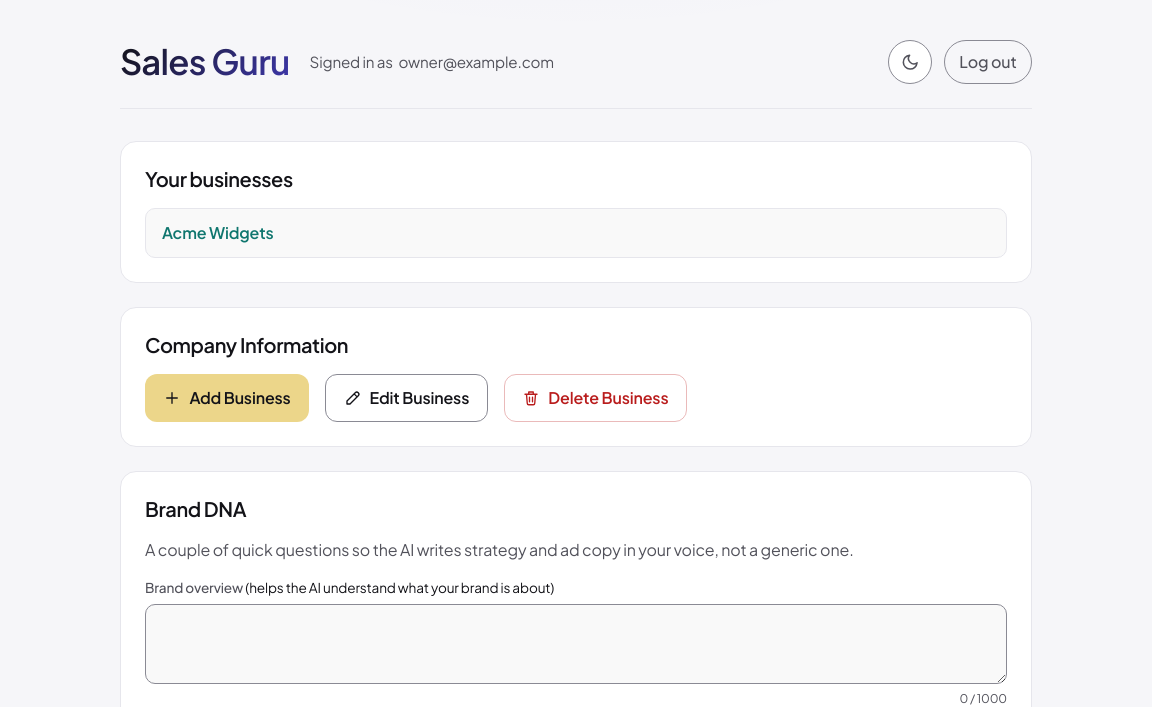
Test case: DashboardPage › the Add Business button › the circular close control › collapses the form without deleting or discarding what was typed
Expected: the link "Acme Widgets" is shown, [162,221,274,245]
Click the button "Add Business": click(227, 398) [145,374,309,422]
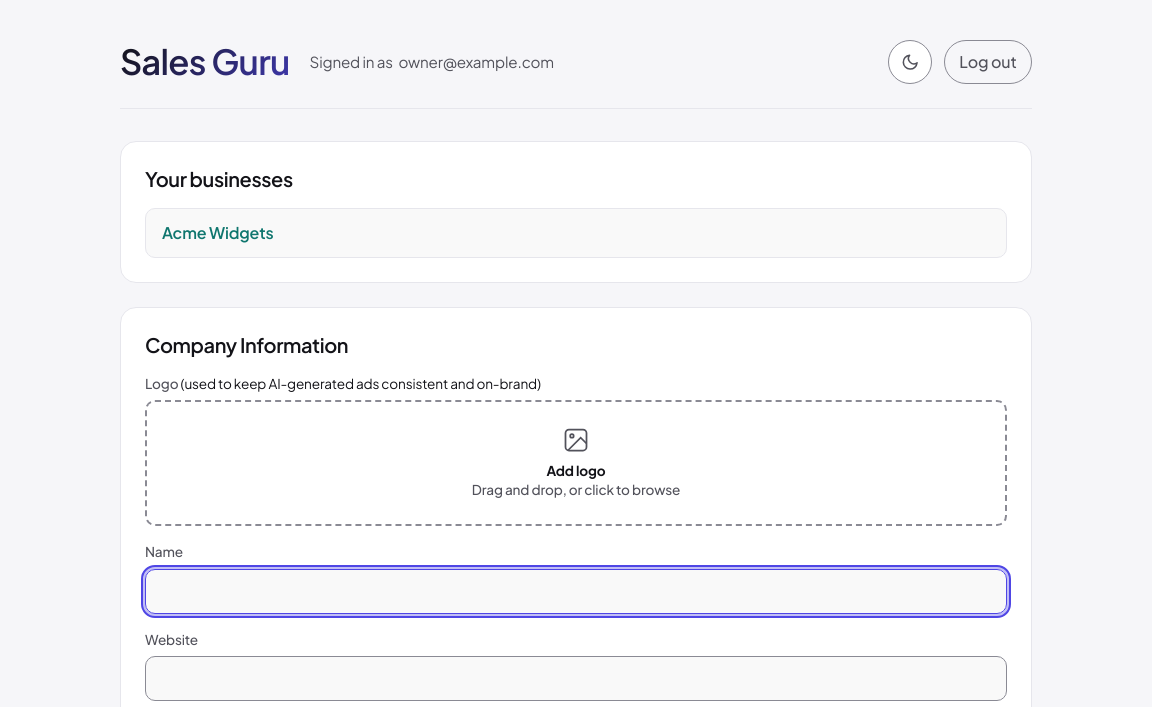
In the field labelled "Name": (576, 591) [145,569,1007,614], type "Half typed"
(page scrolled)
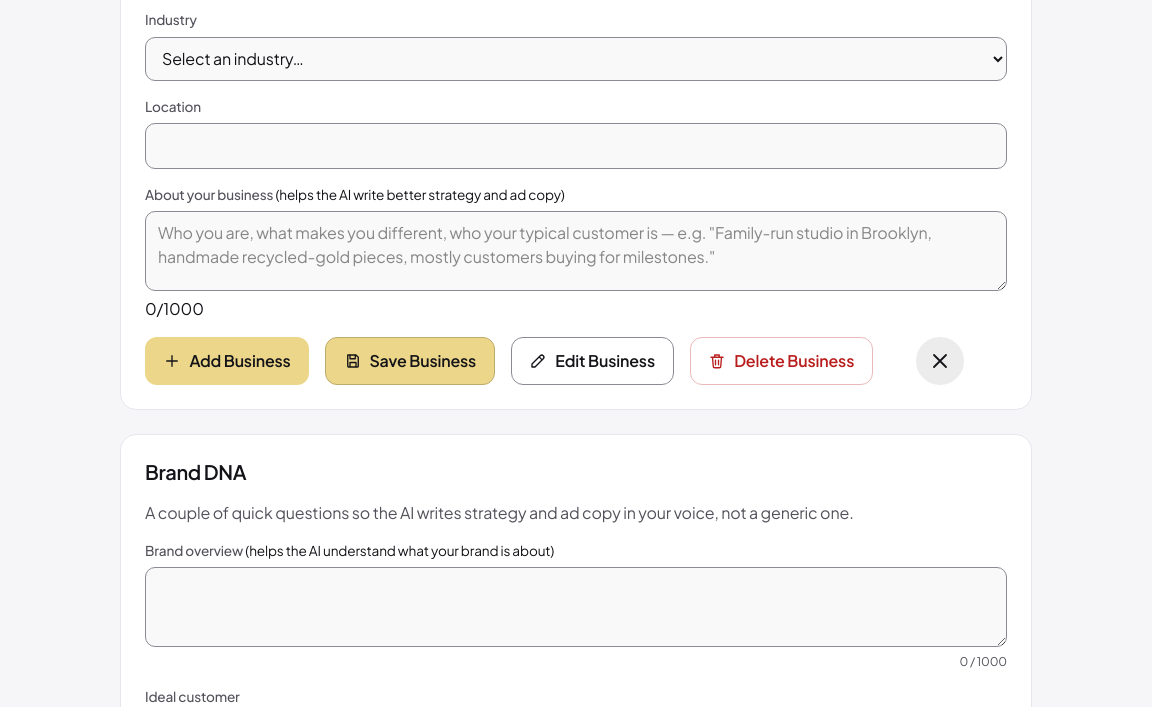
Click the button named "Close Company Information": click(940, 361) [916,337,964,385]
(page scrolled)
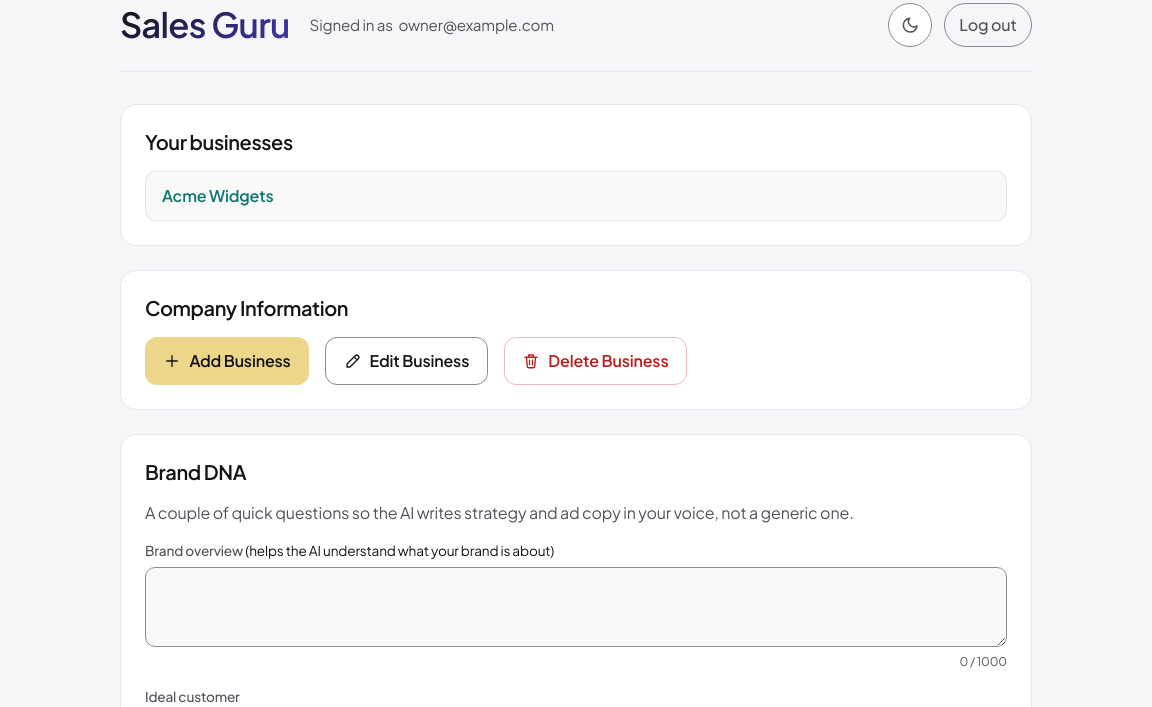
Click the button "Add Business": click(227, 361) [145,337,309,385]
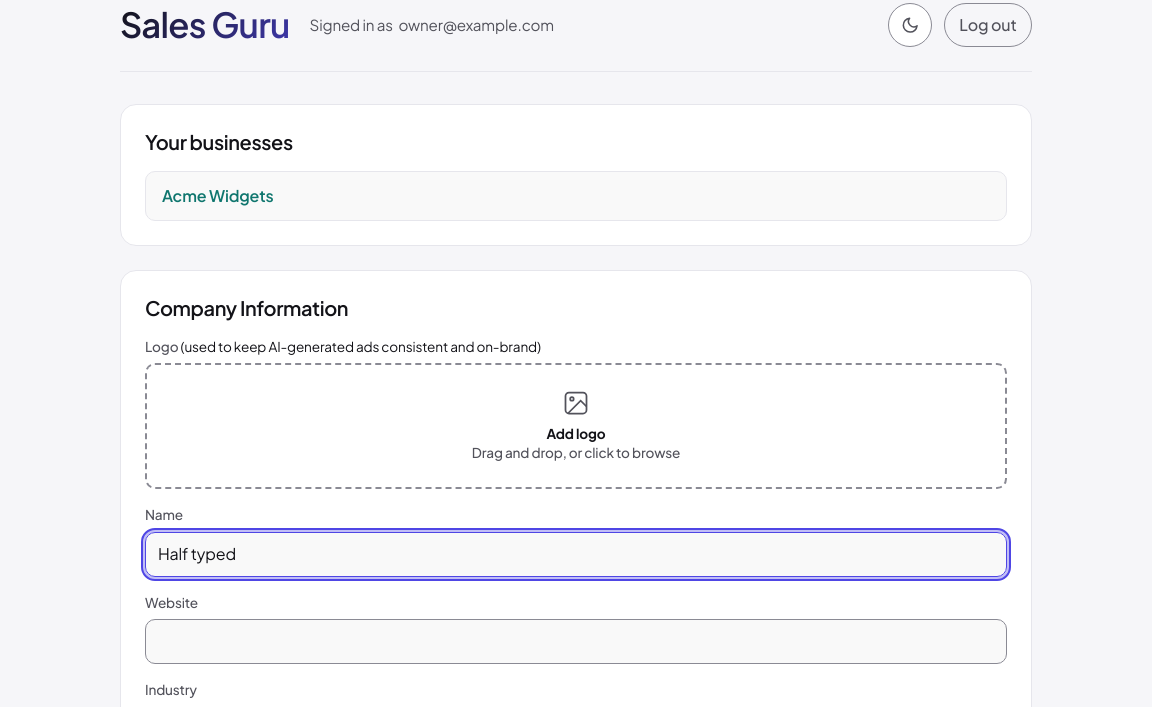
Expected: the field labelled "Name" holds "Half typed", [145,532,1007,577]
